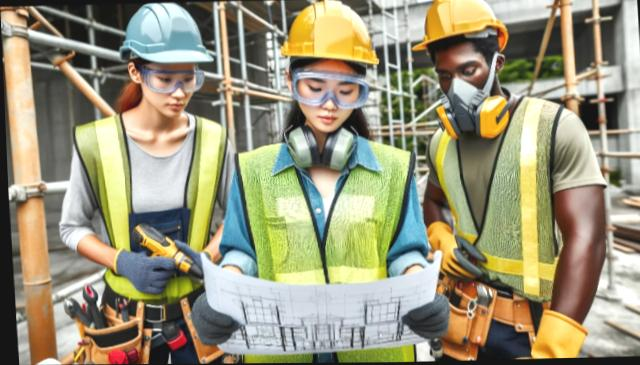helmet: (275, 0, 378, 69), (116, 0, 213, 61), (408, 0, 510, 56)
vest: (237, 140, 407, 364), (431, 90, 554, 296), (83, 117, 222, 292)
